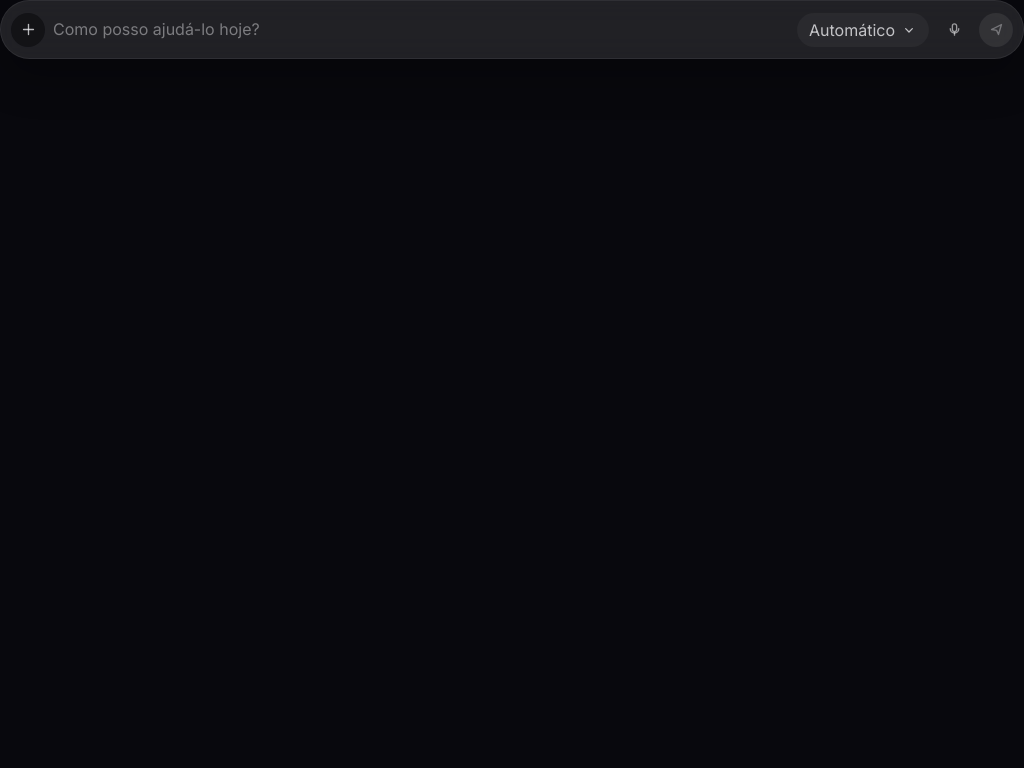
CommandInputPanel › abre seletor interno, adiciona chip de arquivo e remove o chip
The image size is (1024, 768).
Click the button named "Mais ações" at (28, 30), box [11,13,45,47]
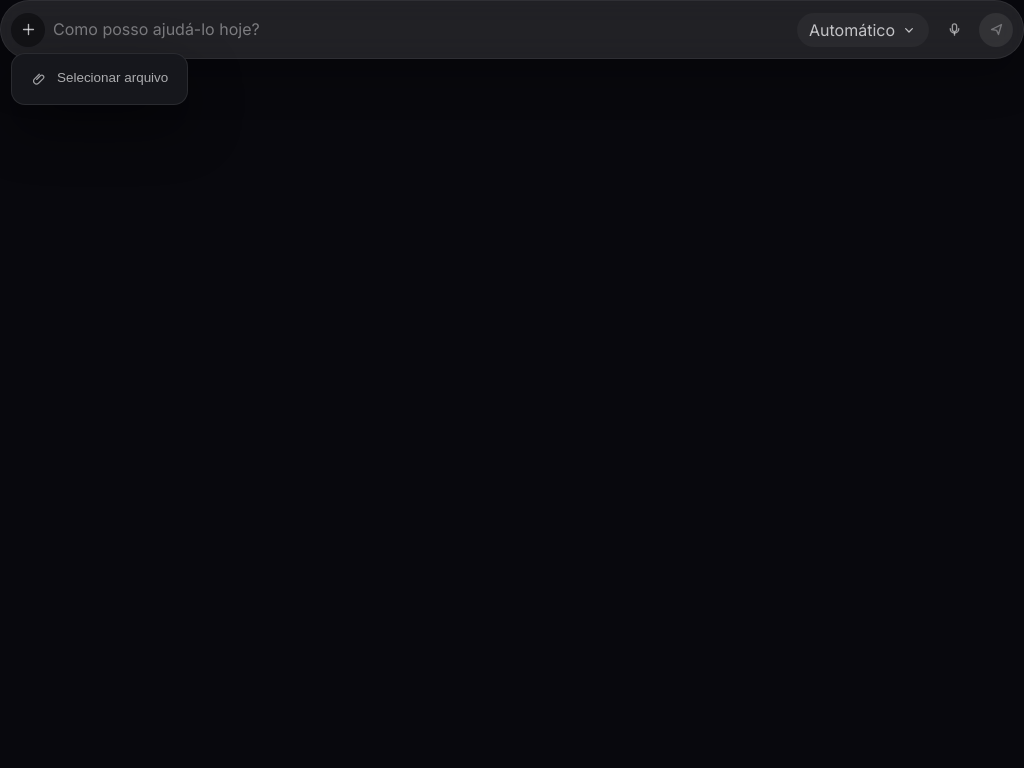
Click the button "Selecionar arquivo" at (100, 79), box [19,61,180,97]
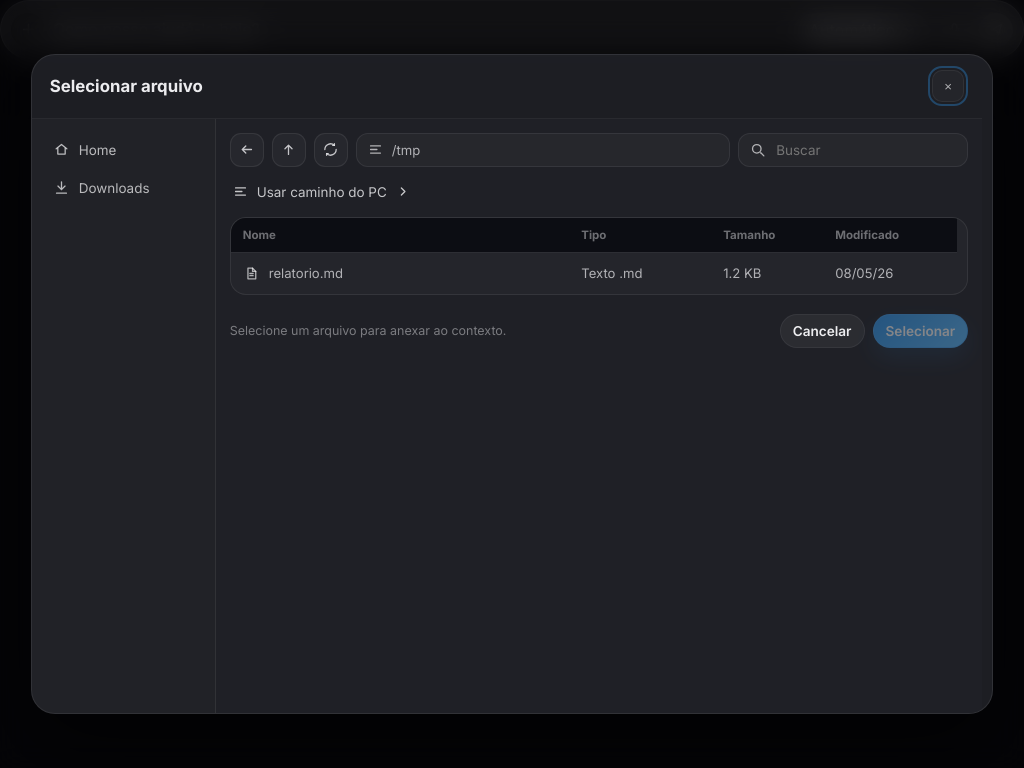
Check: the dialog "Selecionar arquivo" is shown
Check: the text "relatorio.md" is shown
Click the text "relatorio.md" at (306, 273), box [269,265,343,281]
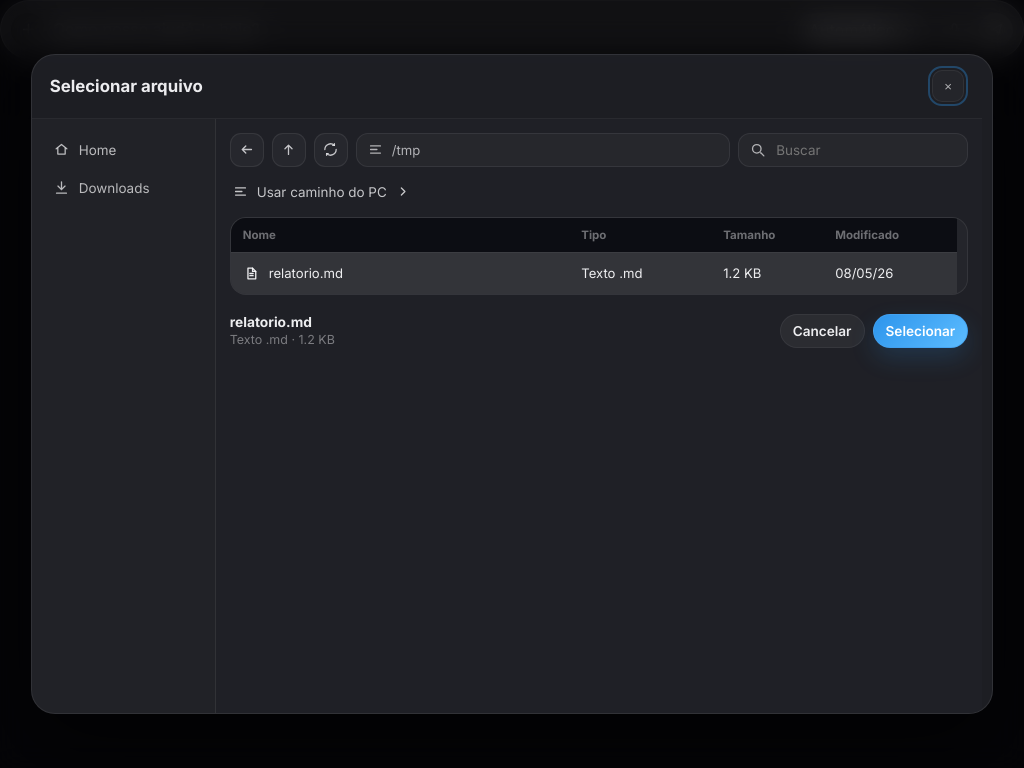
Click the button "Selecionar" at (920, 331), box [872,314,968,348]
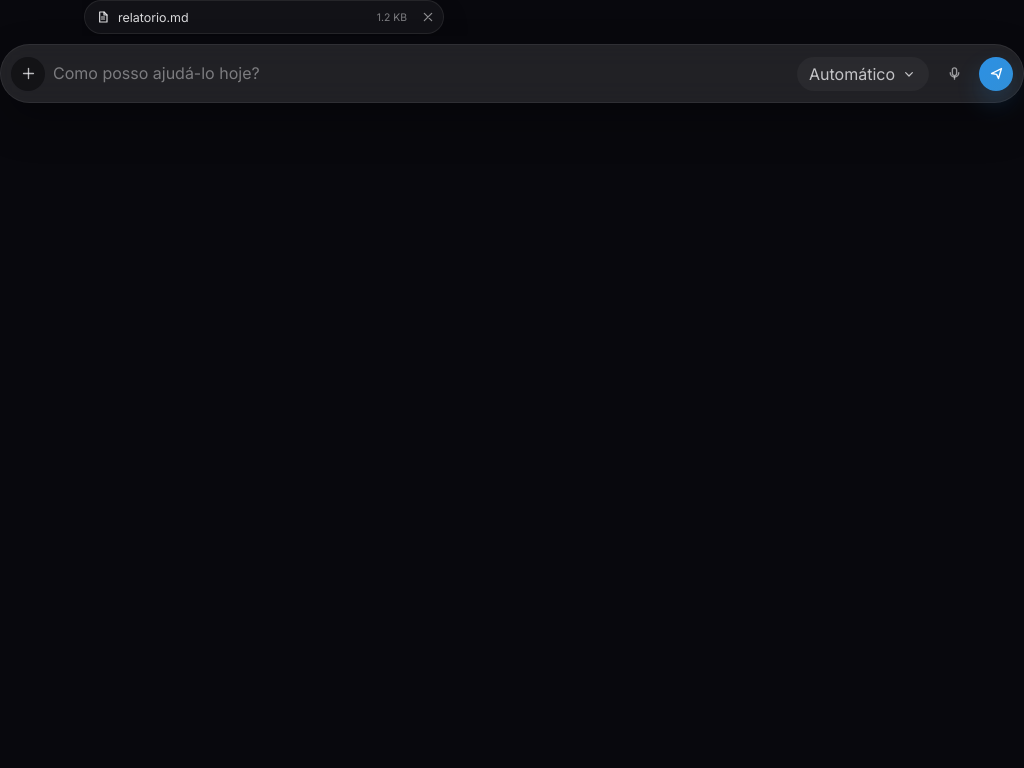
Check: the text "relatorio.md" is shown, box [118,10,189,24]
Check: the text "1.2 KB" is shown, box [377,10,407,24]
Check: the heading "Selecionar arquivo" is gone
Click the button named "Remover relatorio.md" at (426, 17), box [414,5,438,29]
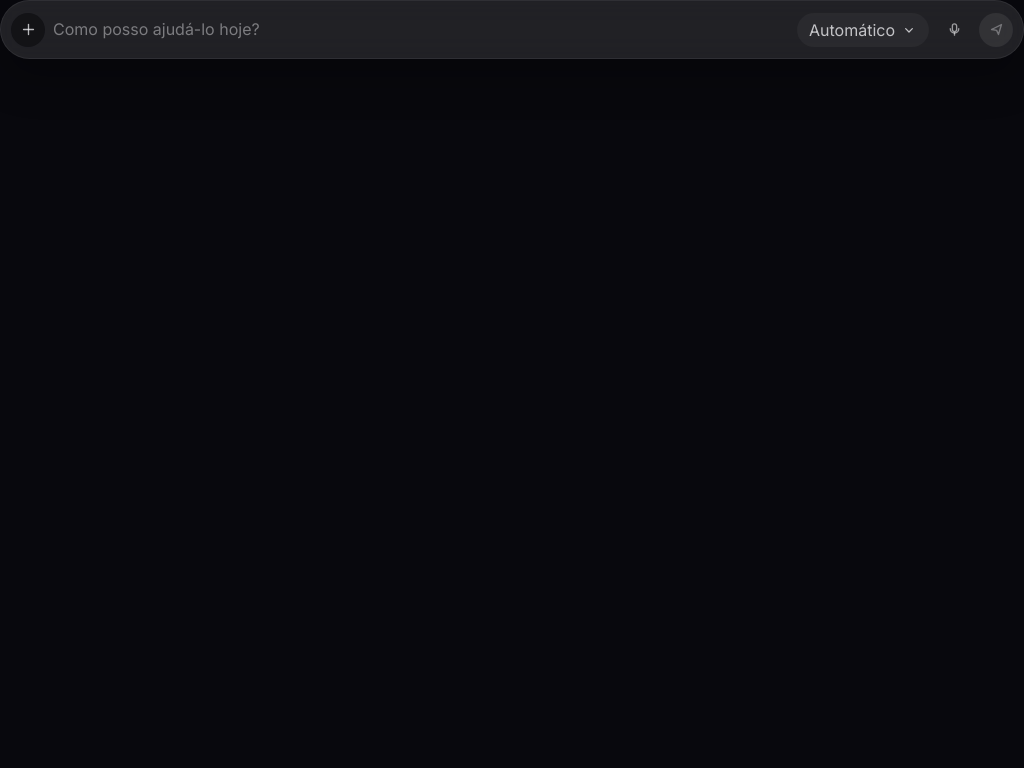
Check: the text "relatorio.md" is gone
